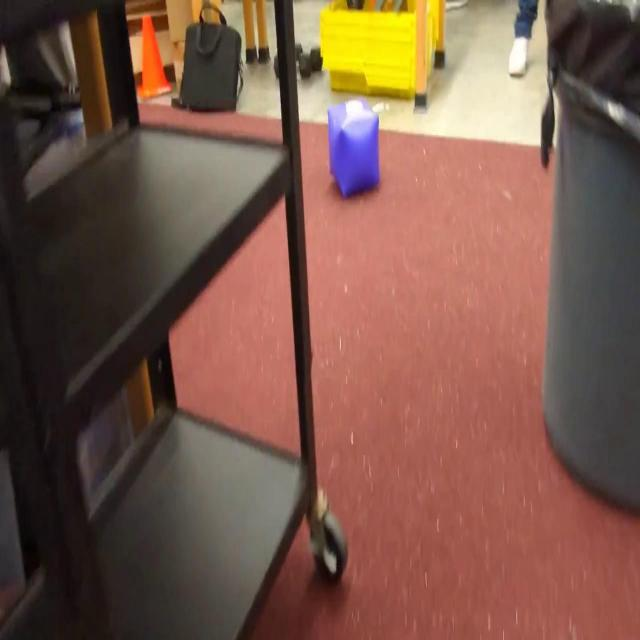frc_cube: (328, 97, 380, 198)
